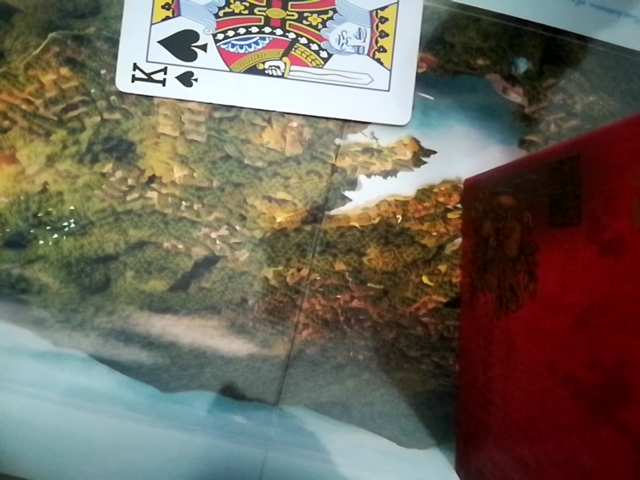ht k: (118, 0, 439, 127)
